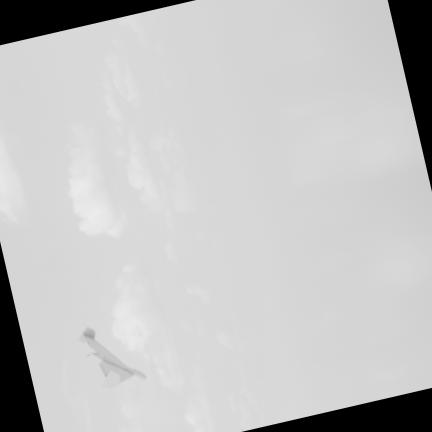Shahed: (79, 327, 145, 387)
